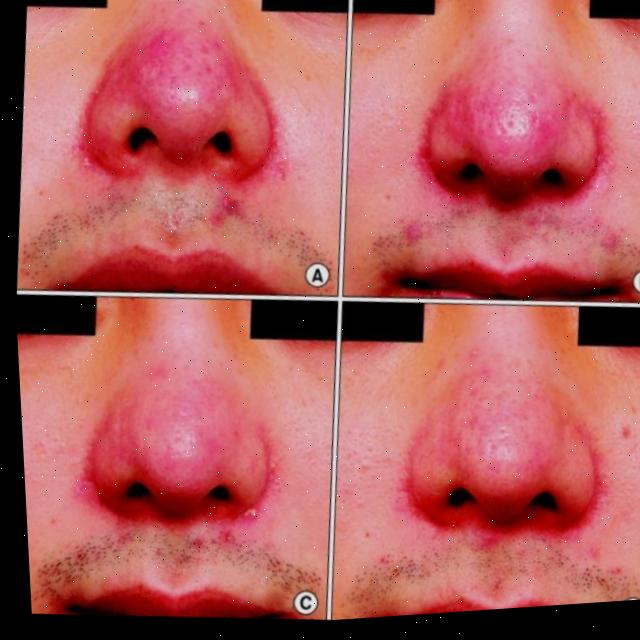Rosacea: (88, 17, 250, 173), (400, 390, 581, 516), (419, 65, 587, 191), (113, 361, 257, 499)
